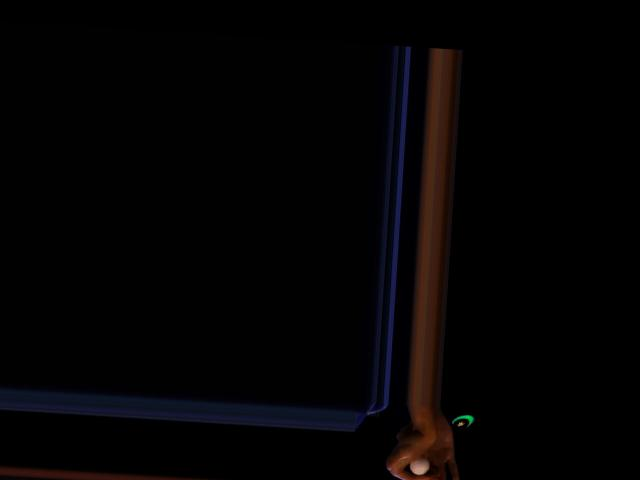egg: (408, 458, 430, 475)
